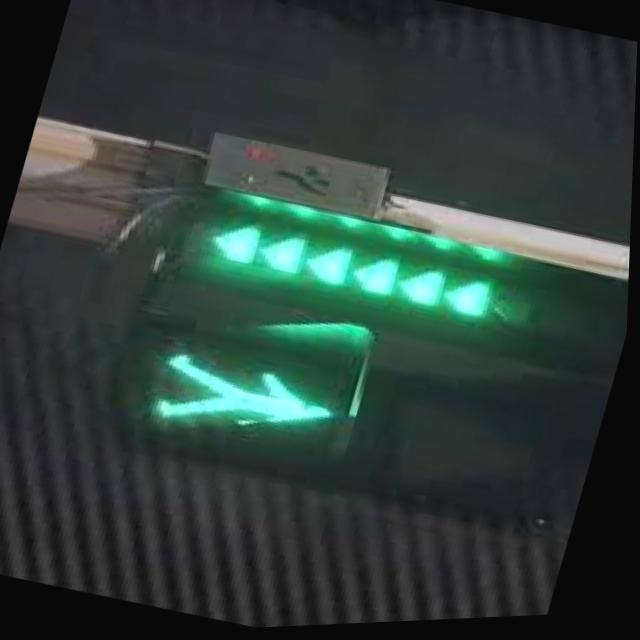green_light: (147, 334, 348, 465)
